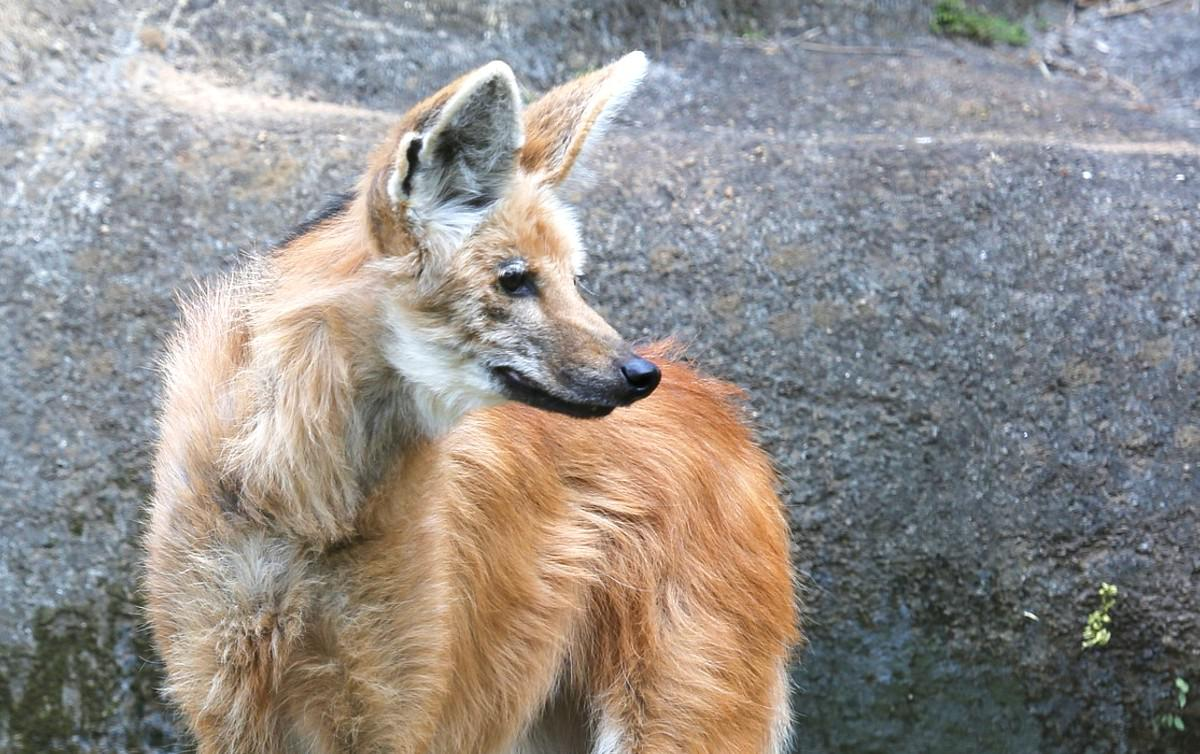LoboGuara: (132, 46, 839, 740)
